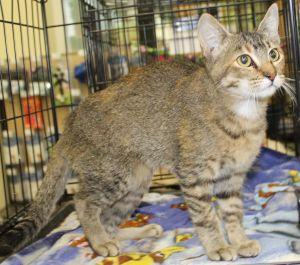bengal: (191, 1, 295, 106)
